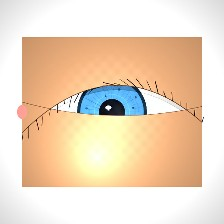hemorrhage_spot: (65, 87, 166, 167)
